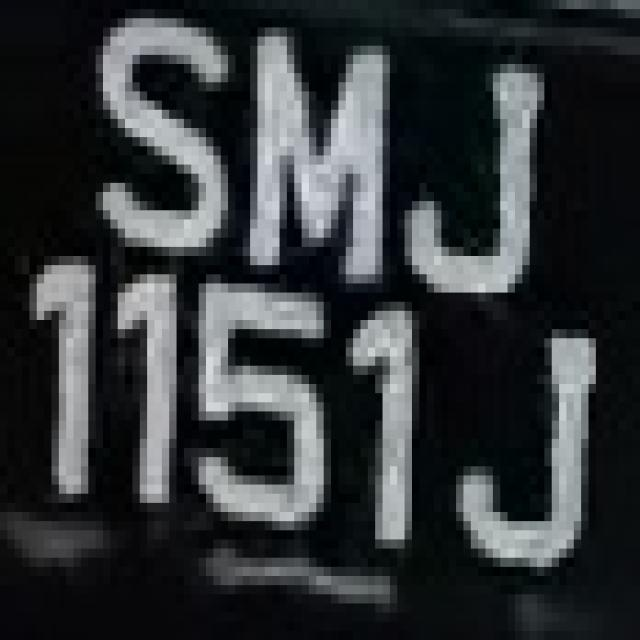1: (37, 219, 110, 567), (338, 302, 412, 585), (132, 256, 198, 530)
5: (206, 265, 338, 585)
J: (449, 311, 618, 594), (405, 36, 559, 292)
M: (235, 27, 412, 302)
S: (80, 0, 257, 274)
